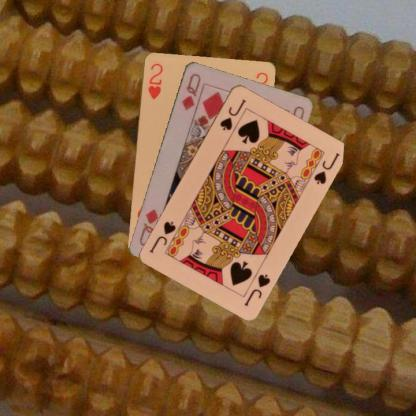2h: (145, 60, 164, 101)
Js: (217, 96, 248, 132), (241, 271, 271, 307)
Qd: (179, 70, 202, 112)
